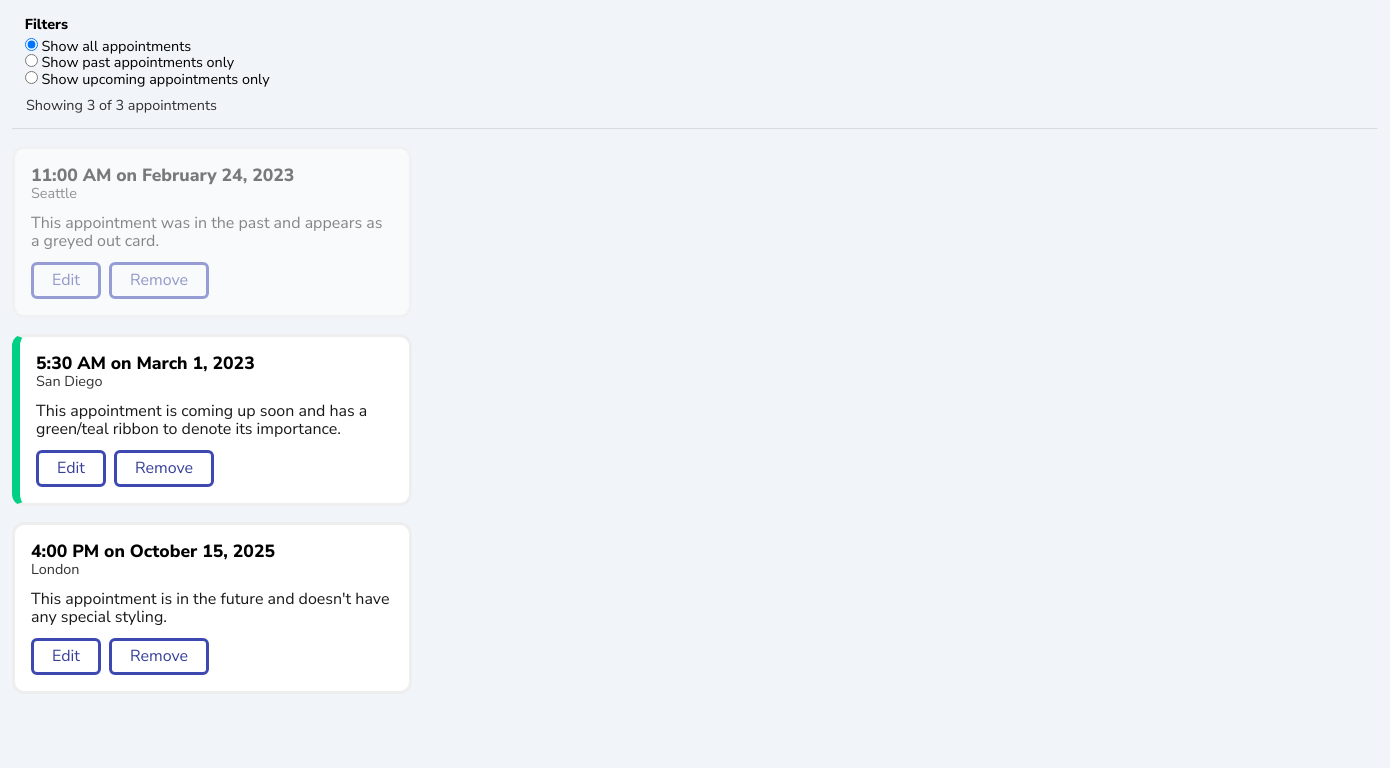
the filter functionality › it can show upcoming appointments only
What coordinates should you click on to do the following:
click the radio button labelled "Show upcoming appointments only"
I would click on:
 (31, 77)
Its box is [25, 71, 38, 84].
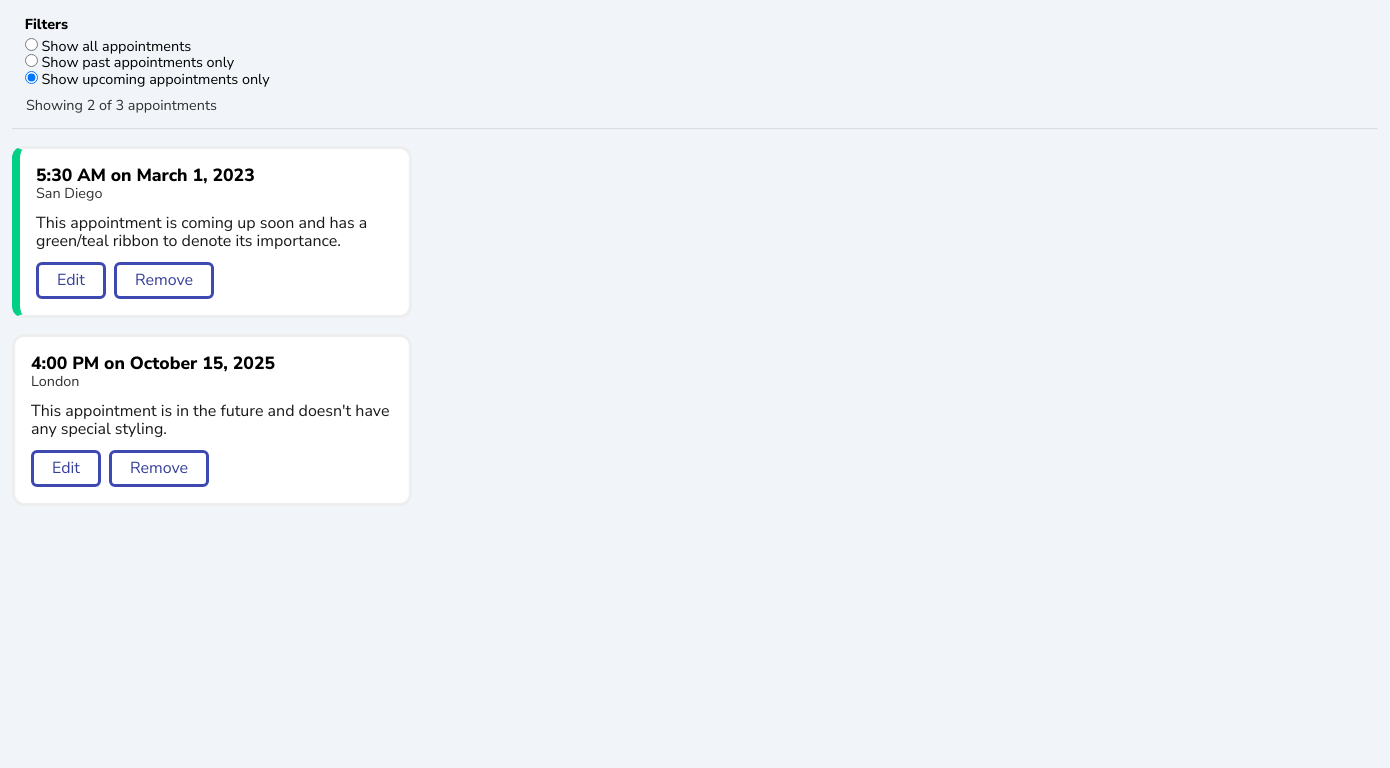
expect the text "This appointment" is shown 2 times: met, box [36, 214, 393, 250]; [31, 402, 393, 438]
